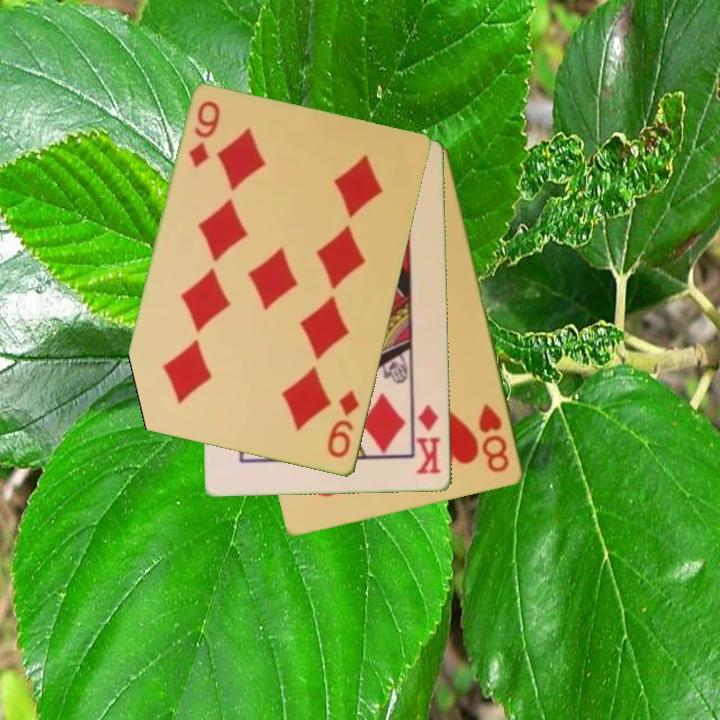8h: (475, 400, 513, 476)
9d: (324, 386, 363, 461), (185, 97, 223, 171)
Kd: (413, 401, 444, 478)
